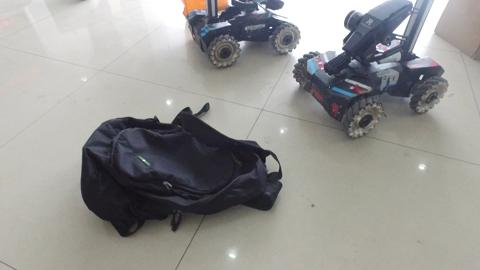bag: (82, 114, 281, 223)
chariot: (294, 1, 447, 138), (185, 1, 298, 64)
